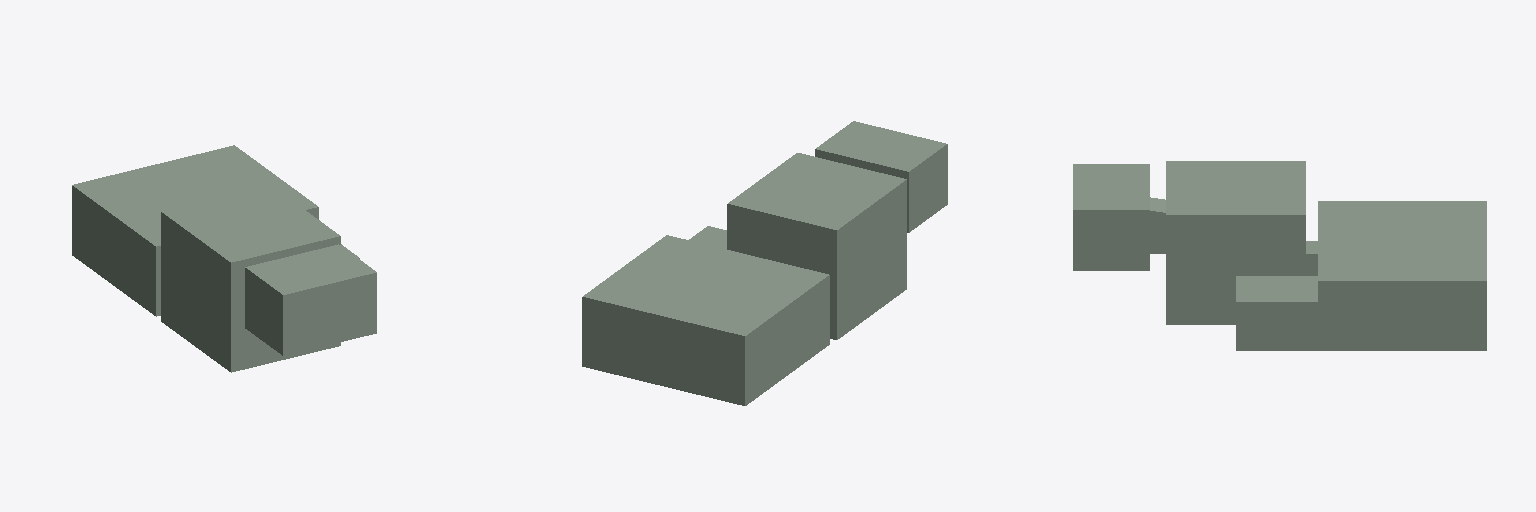
The model's file is prototype_roomWall.obj.
The picture shows the model from 3 angles: view 1: azimuth 30°, elevation 25°; view 2: azimuth 150°, elevation 25°; view 3: azimuth 270°, elevation 25°; orthographic projection.
Parts seen in each view (by area): view 1: Cube; view 2: Cube; view 3: Cube.
Boxes of the visible parts, x1=… form: Cube: x1=72, y1=145, x2=376, y2=372; Cube: x1=582, y1=121, x2=947, y2=405; Cube: x1=1073, y1=161, x2=1486, y2=350.
Size of the model in its own units: 7.54 by 4.83 by 16.47.